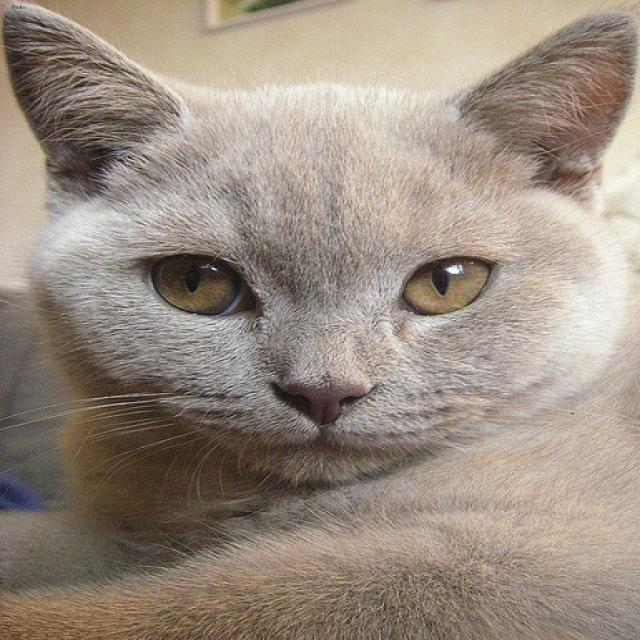British_Shorthair: (0, 0, 638, 482)
